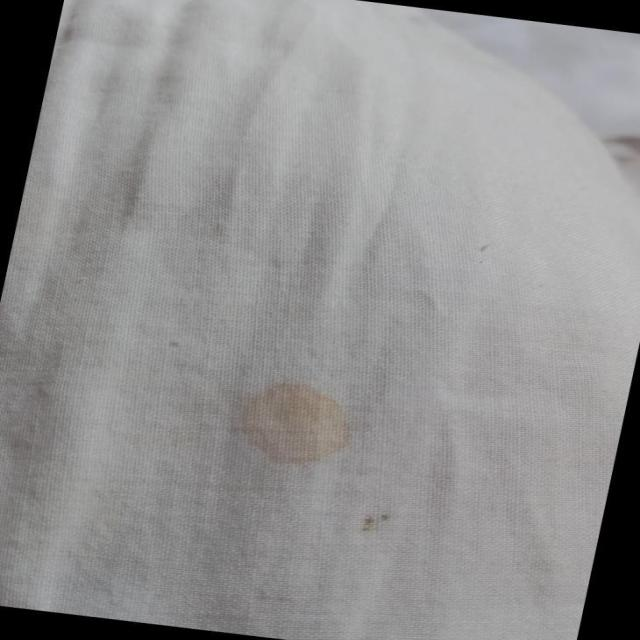stain: (224, 367, 372, 483), (596, 116, 640, 179), (349, 504, 404, 543)
